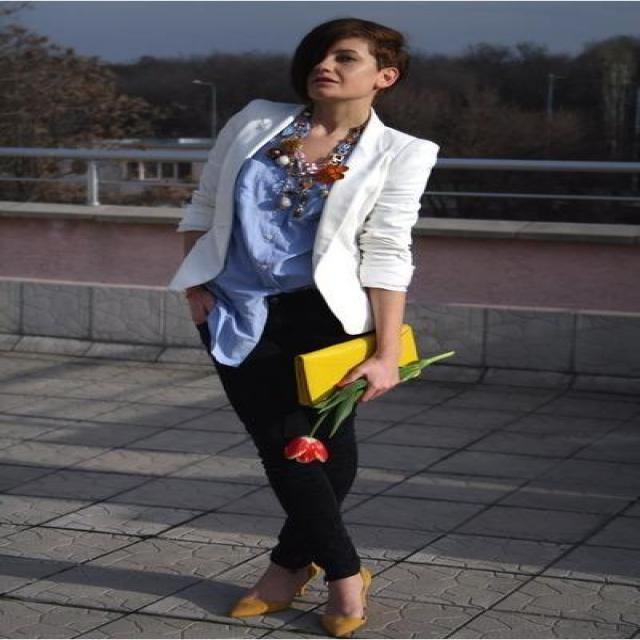bag: (299, 338, 365, 396)
jacket: (173, 99, 438, 334)
pants: (213, 284, 363, 582)
shirt: (206, 132, 358, 365)
shoe: (230, 584, 389, 639)
